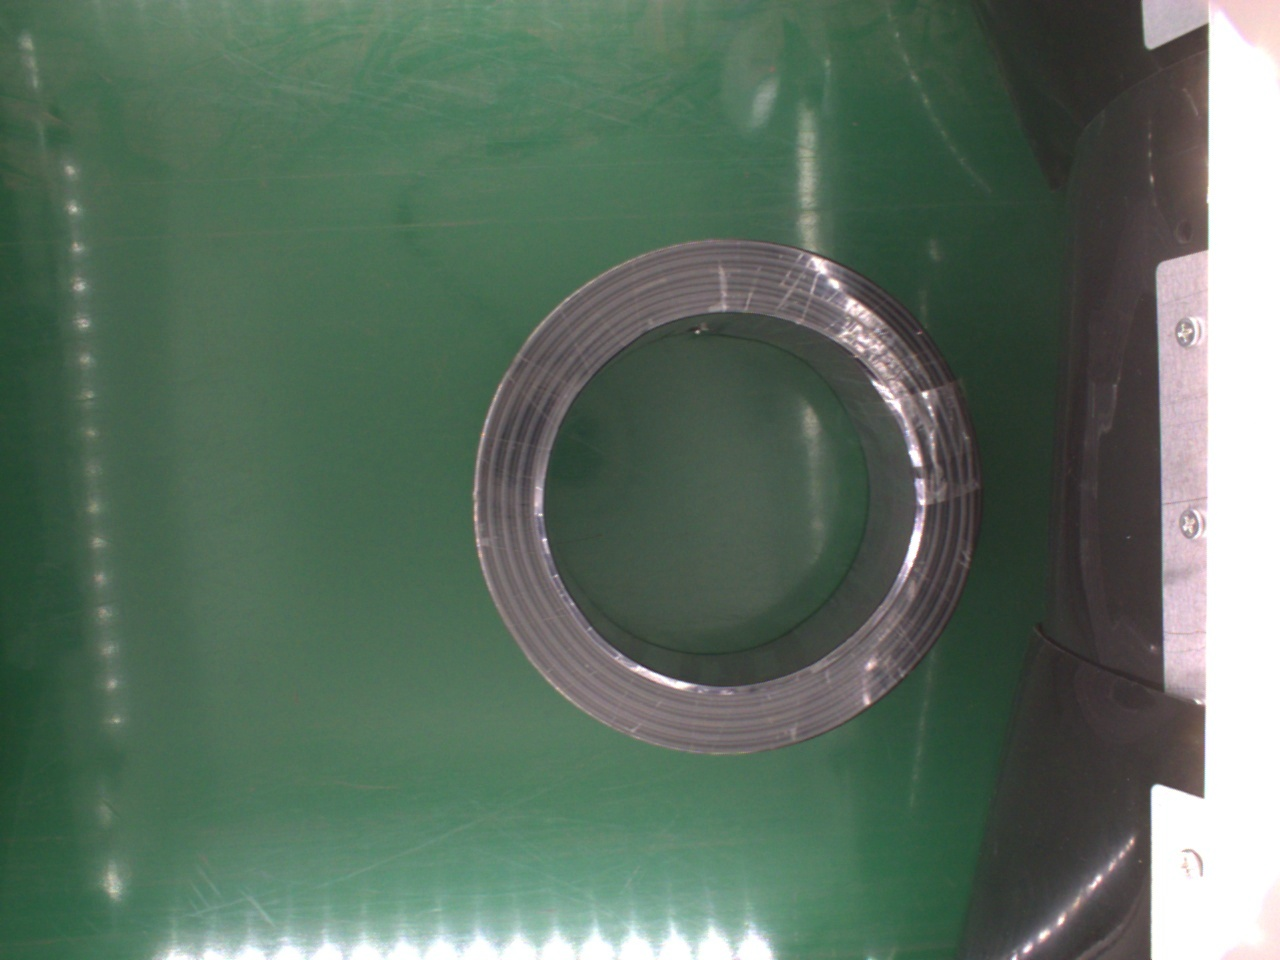black: (466, 238, 985, 758)
